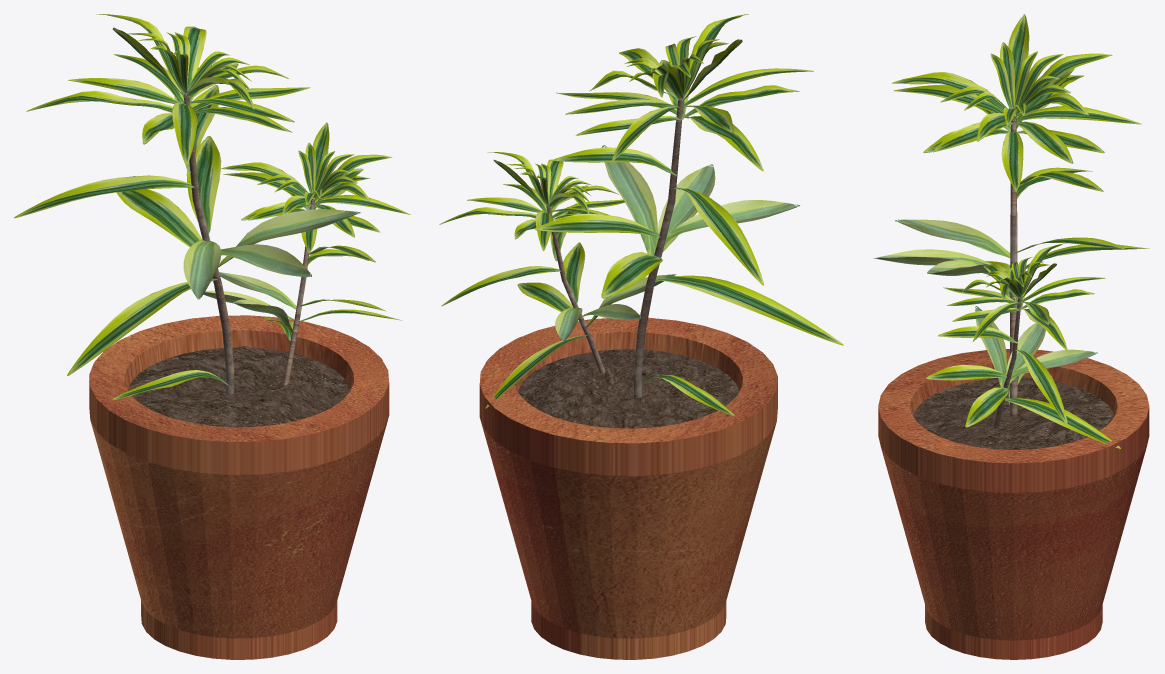
File: Dracaena Reflexa with Pot.fbx
3 renders of one model, left to right at view 1: azimuth 30°, elevation 25°; view 2: azimuth 150°, elevation 25°; view 3: azimuth 270°, elevation 25°, orthographic. The views are drawn at different scales.
Visible parts, largest first — view 1: Cylinder, dracaena reflexa, Plane; view 2: Cylinder, dracaena reflexa, Plane; view 3: Cylinder, dracaena reflexa, Plane.
Boxes of the visible parts, x1=… form: Cylinder: x1=89, y1=315, x2=389, y2=659; dracaena reflexa: x1=14, y1=14, x2=410, y2=399; Plane: x1=128, y1=346, x2=350, y2=427; Cylinder: x1=479, y1=317, x2=777, y2=659; dracaena reflexa: x1=439, y1=14, x2=843, y2=415; Plane: x1=518, y1=349, x2=739, y2=428; Cylinder: x1=878, y1=349, x2=1149, y2=659; dracaena reflexa: x1=873, y1=14, x2=1149, y2=448; Plane: x1=913, y1=376, x2=1113, y2=449.
Size of the model in its own units: 49.84 by 82.59 by 37.48.
6 materials, 6 textured.
